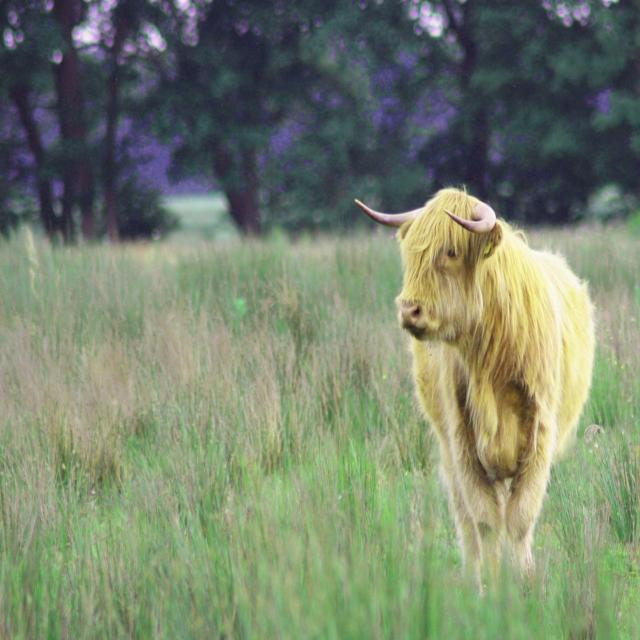cow: (355, 189, 595, 571)
